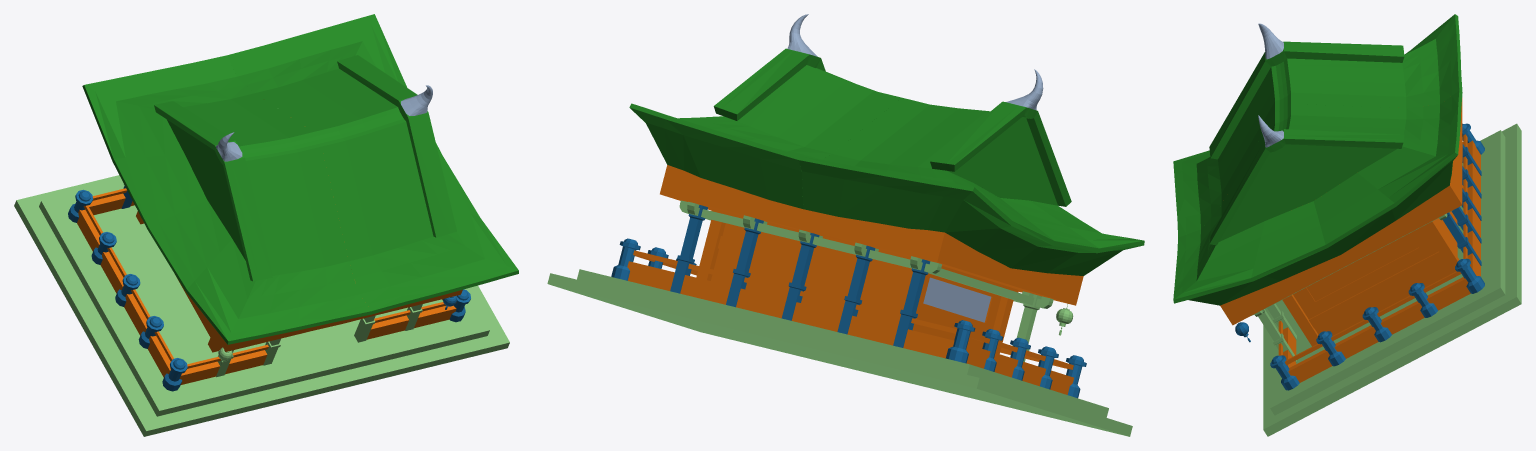
Rendered from temple_k5.glb.
3 renders of one model, left to right at view 1: azimuth 30°, elevation 25°; view 2: azimuth 150°, elevation 25°; view 3: azimuth 270°, elevation 25°, orthographic. The views are drawn at different scales.
Visible parts, largest first — view 1: world; view 2: world; view 3: world.
Part boxes in pixels (bbox=[...]): world: bbox=[14, 14, 518, 436]; world: bbox=[547, 14, 1144, 436]; world: bbox=[1173, 14, 1521, 436].
Size of the model in its own units: 1.52 by 1.15 by 1.29.
